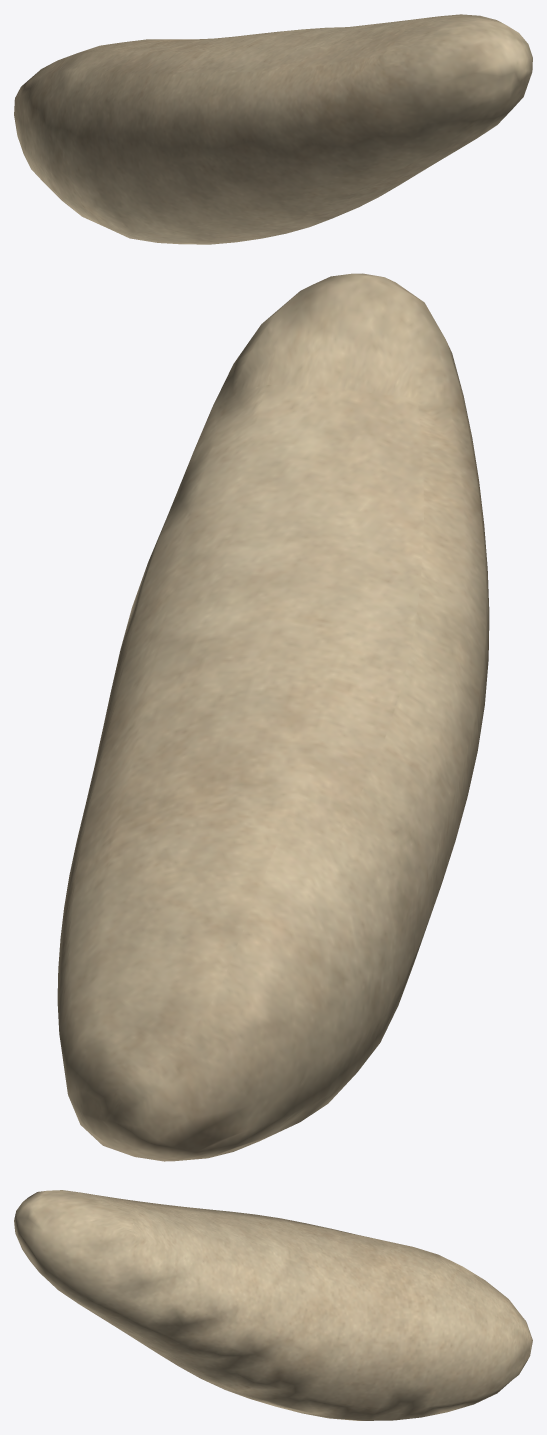
Rendered from Lower_Canine.glb.
3 renders of one model, top to bottom at view 1: azimuth 30°, elevation 25°; view 2: azimuth 150°, elevation 25°; view 3: azimuth 270°, elevation 25°, orthographic. The views are drawn at different scales.
Parts seen in each view (by area): view 1: Lower_Canine.glb; view 2: Lower_Canine.glb; view 3: Lower_Canine.glb.
Part boxes in pixels (left/top/right/bottom): Lower_Canine.glb: left=14, top=14, right=532, bottom=244; Lower_Canine.glb: left=57, top=273, right=489, bottom=1161; Lower_Canine.glb: left=14, top=1190, right=532, bottom=1420.
Size of the model in its own units: 0.00991 by 0.0112 by 0.0198.
Materials: 1 (1 with a texture image).
